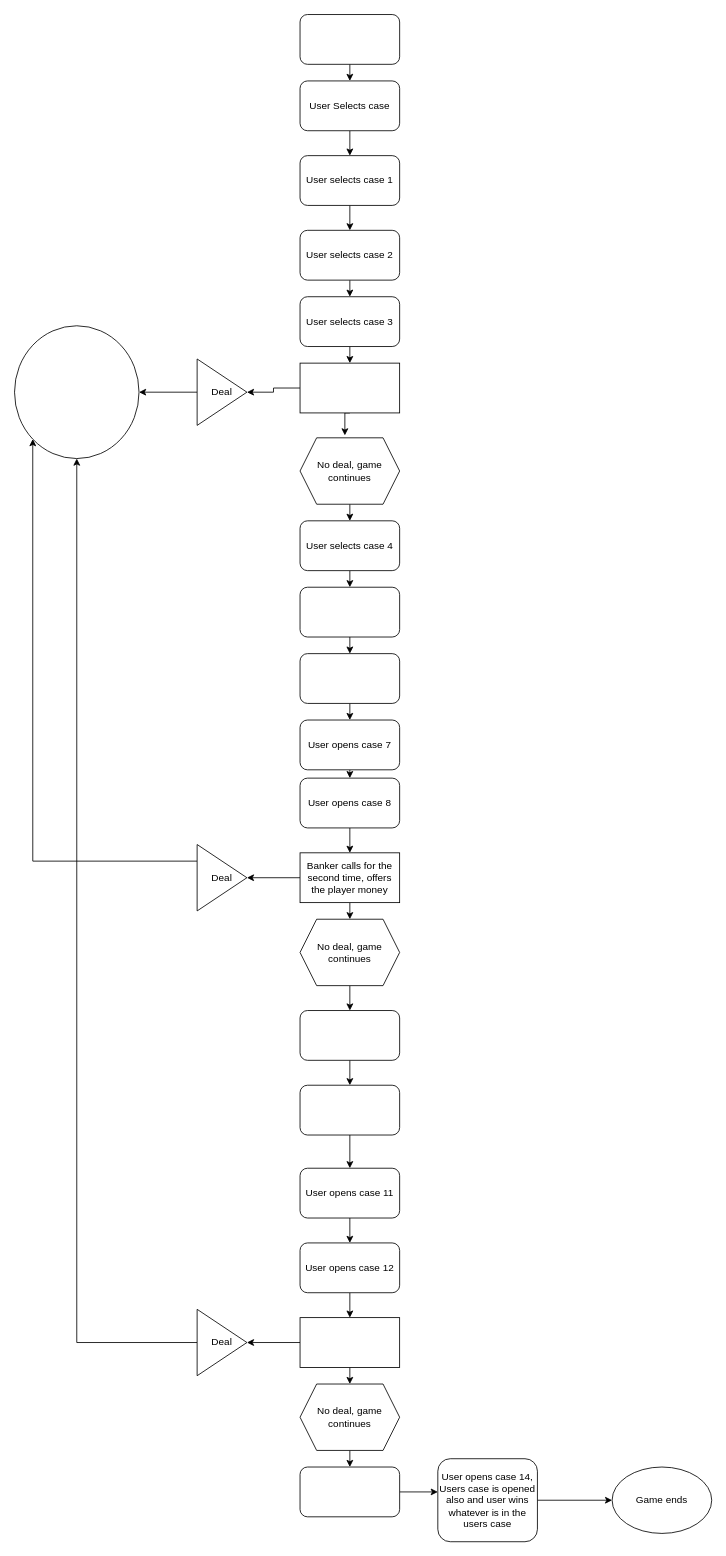
Image size: 726x1556. Some labels were removed from this diagram. The centre of each missing label's shape, as x and y in pixels:
Banker calls for the last time, offers user money: (x=349, y=1342)
Banker offers money, user selects deal or no deal: (x=349, y=387)
Deal or no Deal: (x=349, y=39)
Game ends, user takes money that the banker offered: (x=76, y=392)
User opens case 10: (x=349, y=1109)
User opens case 13: (x=349, y=1491)
User opens case 9: (x=349, y=1035)
User selects case 5: (x=349, y=611)
User selects case 6: (x=349, y=678)
